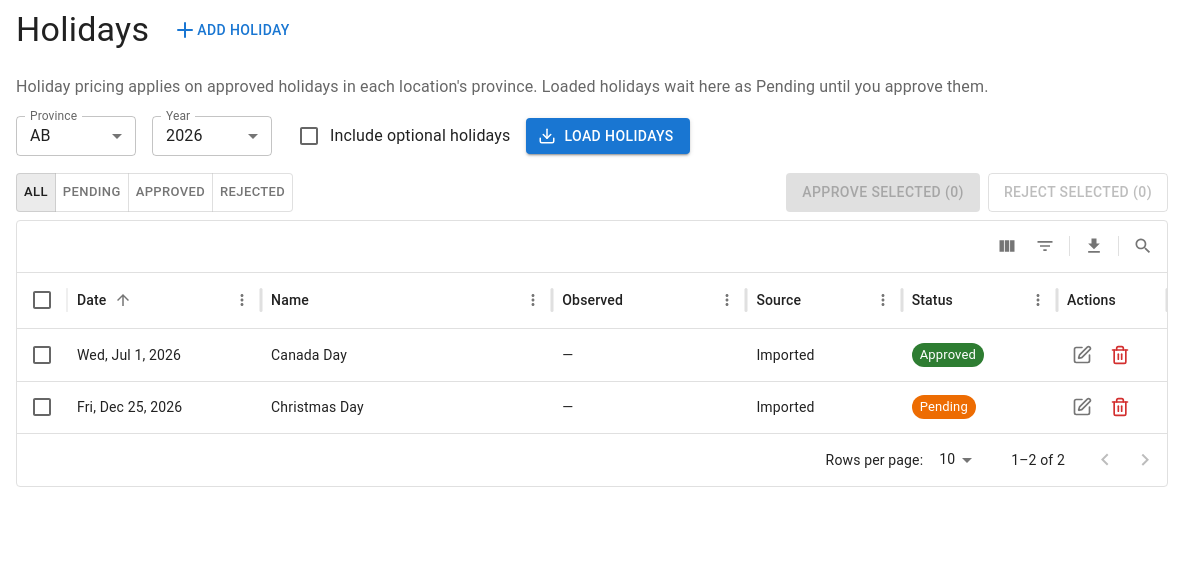
Test: HolidayManagement › approves the selected holidays
Expected: the text "Christmas Day" is shown, [261, 381, 552, 433]
Click the checkbox named "Select row" at (42, 407), box [30, 395, 54, 419]
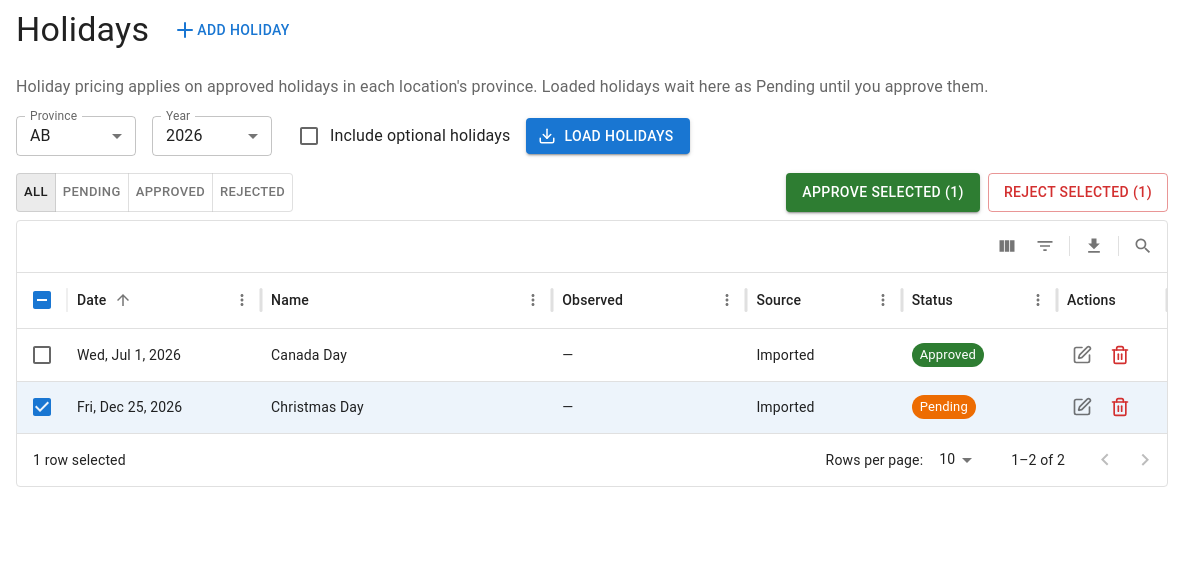
Click the button "Approve selected (1)" at (883, 192), box [786, 173, 980, 212]
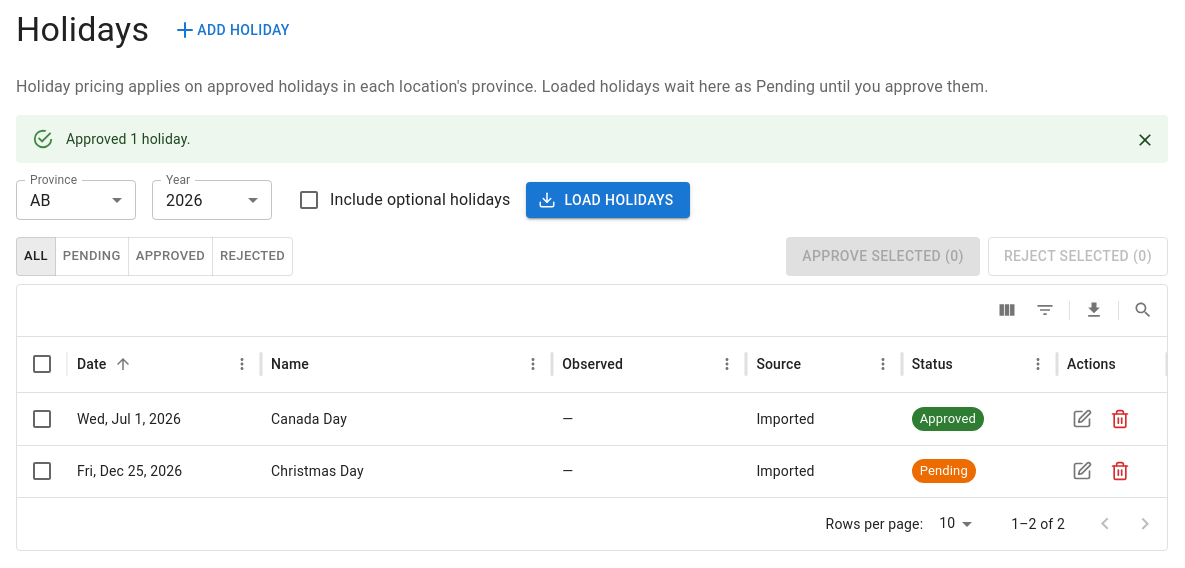
Now the text "Approved 1 holiday." is shown, box [66, 131, 190, 147]
